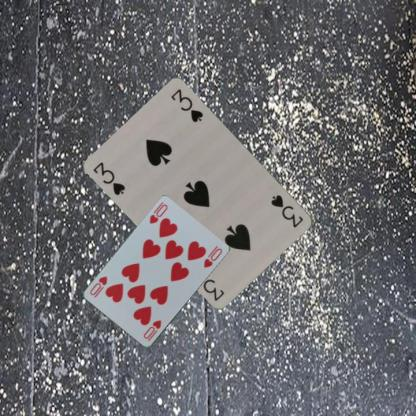10h: (140, 318, 162, 342), (146, 202, 168, 225)
3s: (91, 159, 127, 197), (269, 192, 305, 229)
